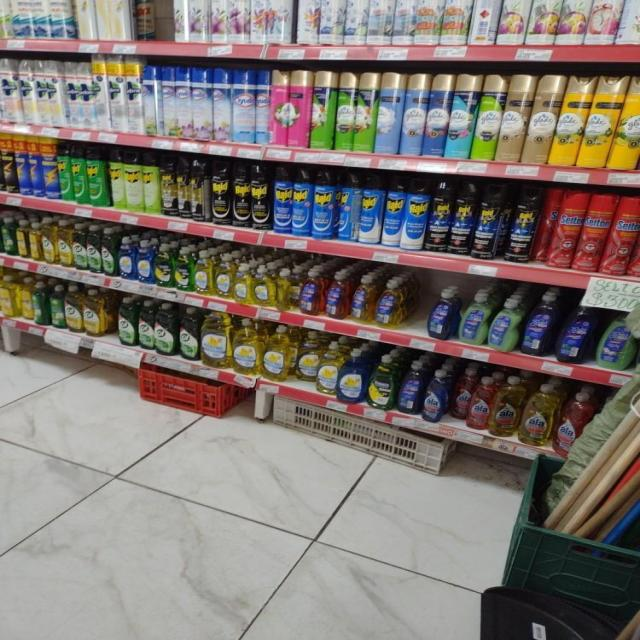ala_conc_amarillo: (522, 383, 556, 446), (493, 376, 521, 438)
ala_conc_azul: (423, 369, 450, 423)
ala_conc_rojo: (557, 391, 589, 456), (470, 376, 492, 432), (452, 369, 471, 424)
cif_conc_bot_amarilla: (57, 220, 71, 268), (42, 218, 55, 264)
cif_conc_botella_verde: (178, 306, 199, 362), (101, 227, 117, 277), (72, 223, 86, 271), (87, 225, 100, 274)
magistral_con_amarillo: (200, 311, 230, 369), (262, 325, 292, 382), (232, 318, 260, 376), (295, 331, 318, 384), (253, 264, 275, 308), (277, 267, 298, 312), (214, 252, 233, 300), (194, 249, 213, 296), (234, 263, 252, 305)
magistral_con_azul: (338, 348, 366, 404), (118, 236, 134, 280)
zorro: (350, 273, 374, 325)
